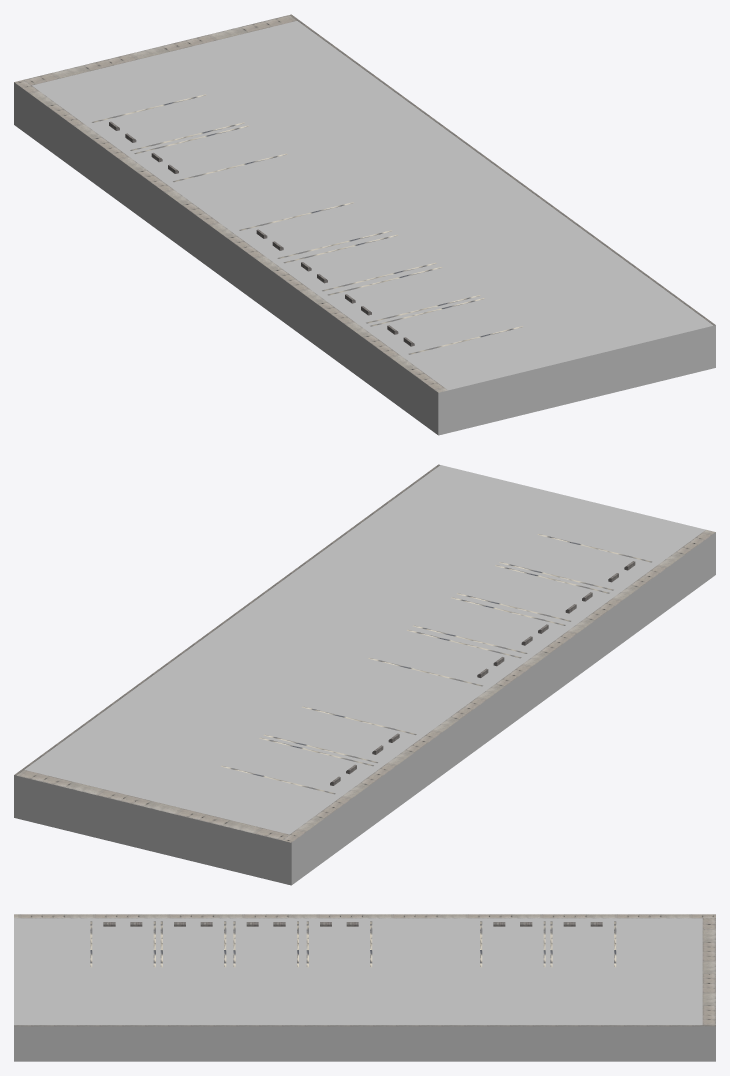
3 renders of one model, top to bottom at view 1: azimuth 30°, elevation 25°; view 2: azimuth 150°, elevation 25°; view 3: azimuth 270°, elevation 25°, orthographic. The views are drawn at different scales.
Visible parts, largest first — view 1: BB_020_a2; view 2: BB_020_a2; view 3: BB_020_a2.
Part boxes in pixels (left/top/right/bottom): BB_020_a2: left=14, top=14, right=715, bottom=435; BB_020_a2: left=14, top=464, right=715, bottom=885; BB_020_a2: left=14, top=914, right=715, bottom=1061.
Bounding box in the file's own units: 13.59 × 2.18 × 36.
